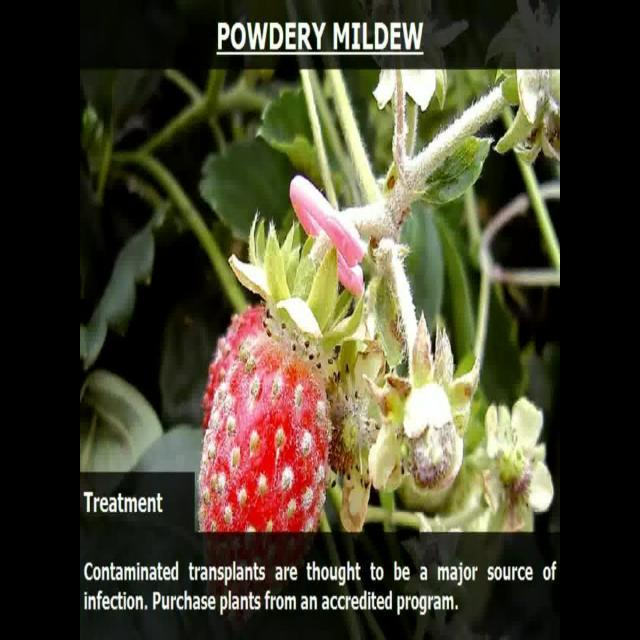Oído: (196, 302, 328, 538)
